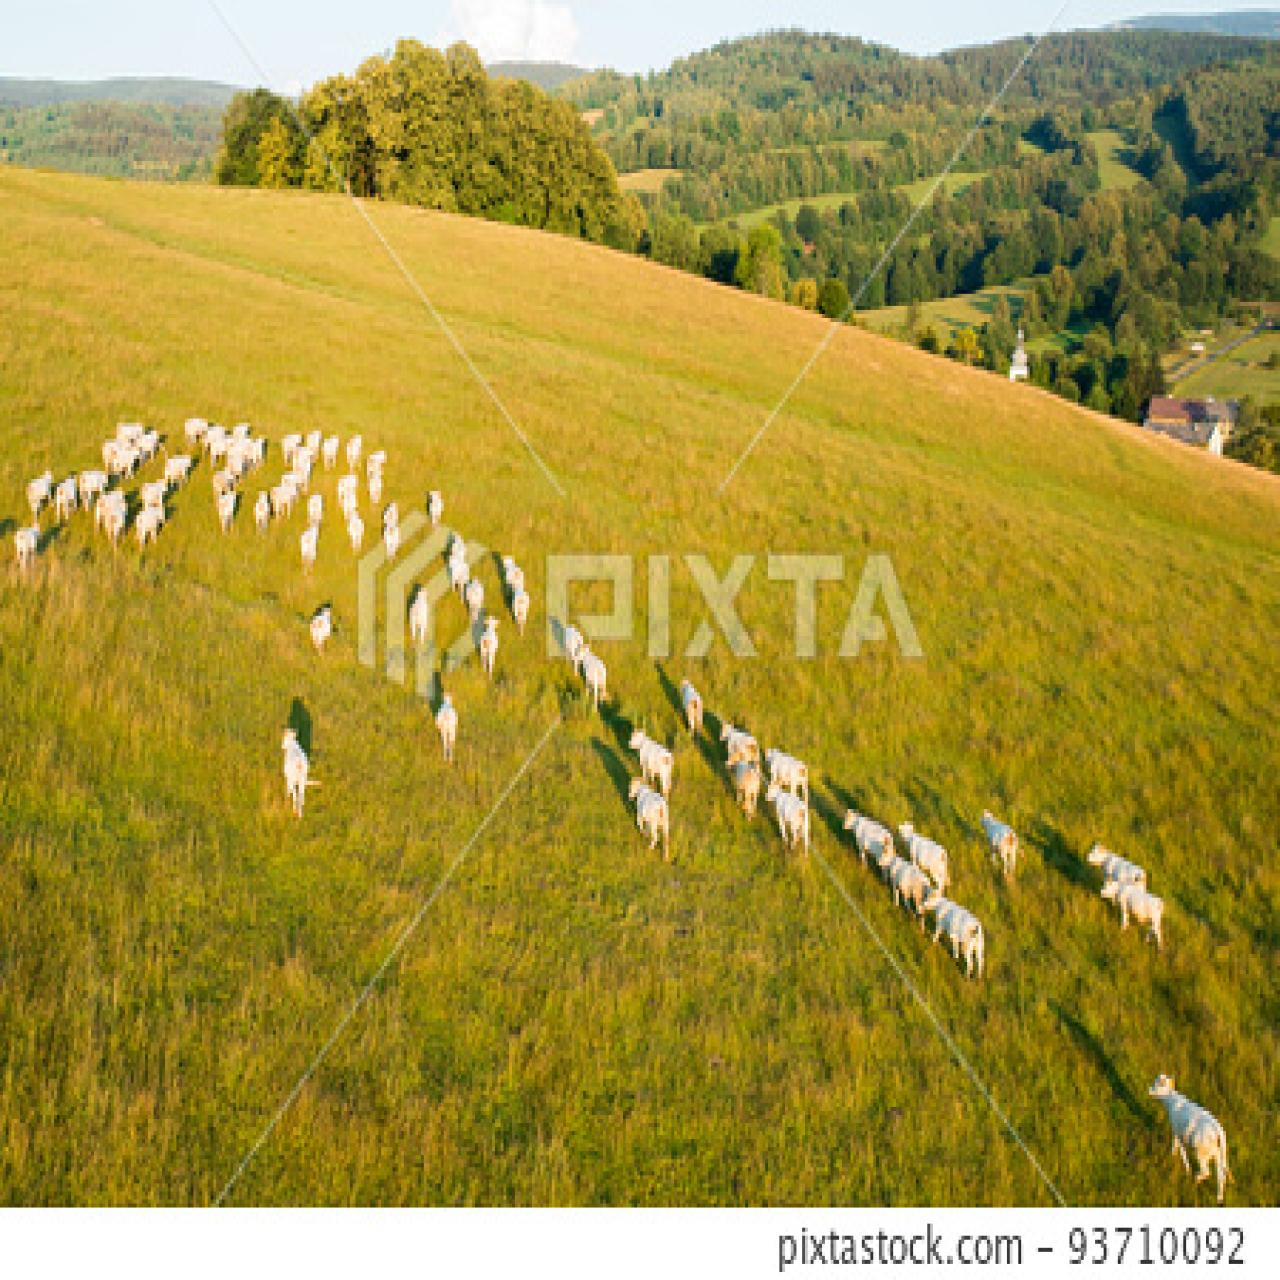cow: (1167, 1097, 1234, 1197), (1101, 873, 1166, 972), (965, 810, 1028, 897), (272, 721, 324, 819), (931, 907, 993, 982), (839, 797, 891, 881), (624, 772, 669, 860), (1087, 831, 1150, 894), (625, 713, 673, 792), (769, 785, 818, 855), (897, 816, 945, 885), (764, 736, 816, 799), (293, 590, 339, 649), (886, 856, 934, 912), (427, 687, 463, 758), (568, 638, 608, 700), (726, 760, 763, 822), (680, 668, 714, 734), (475, 615, 506, 686), (721, 714, 762, 764), (12, 515, 42, 570), (129, 502, 162, 550), (422, 483, 448, 530), (300, 518, 320, 563)
